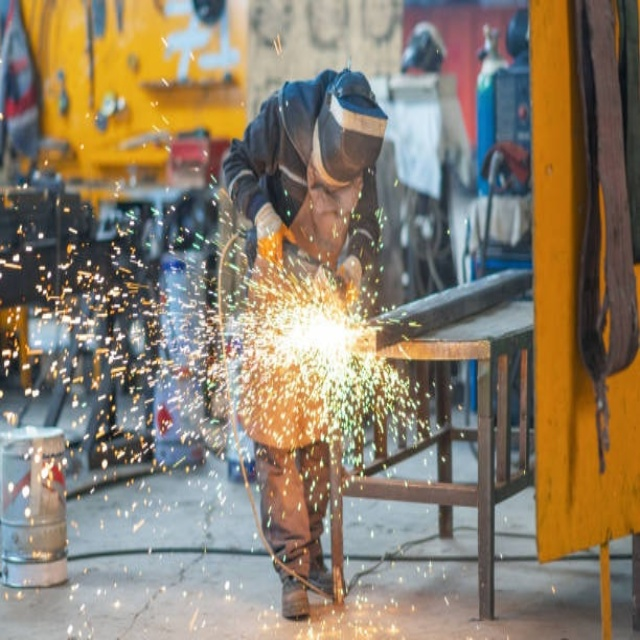Guantes: (253, 196, 297, 275)
